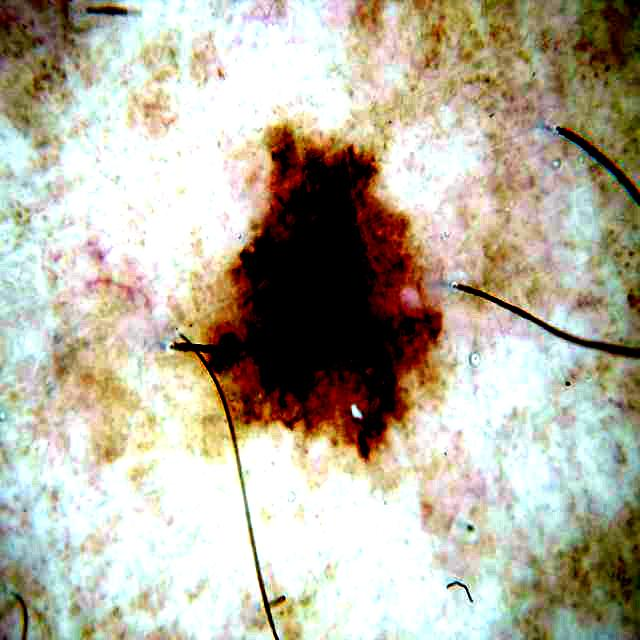MEL: (208, 131, 442, 456)
